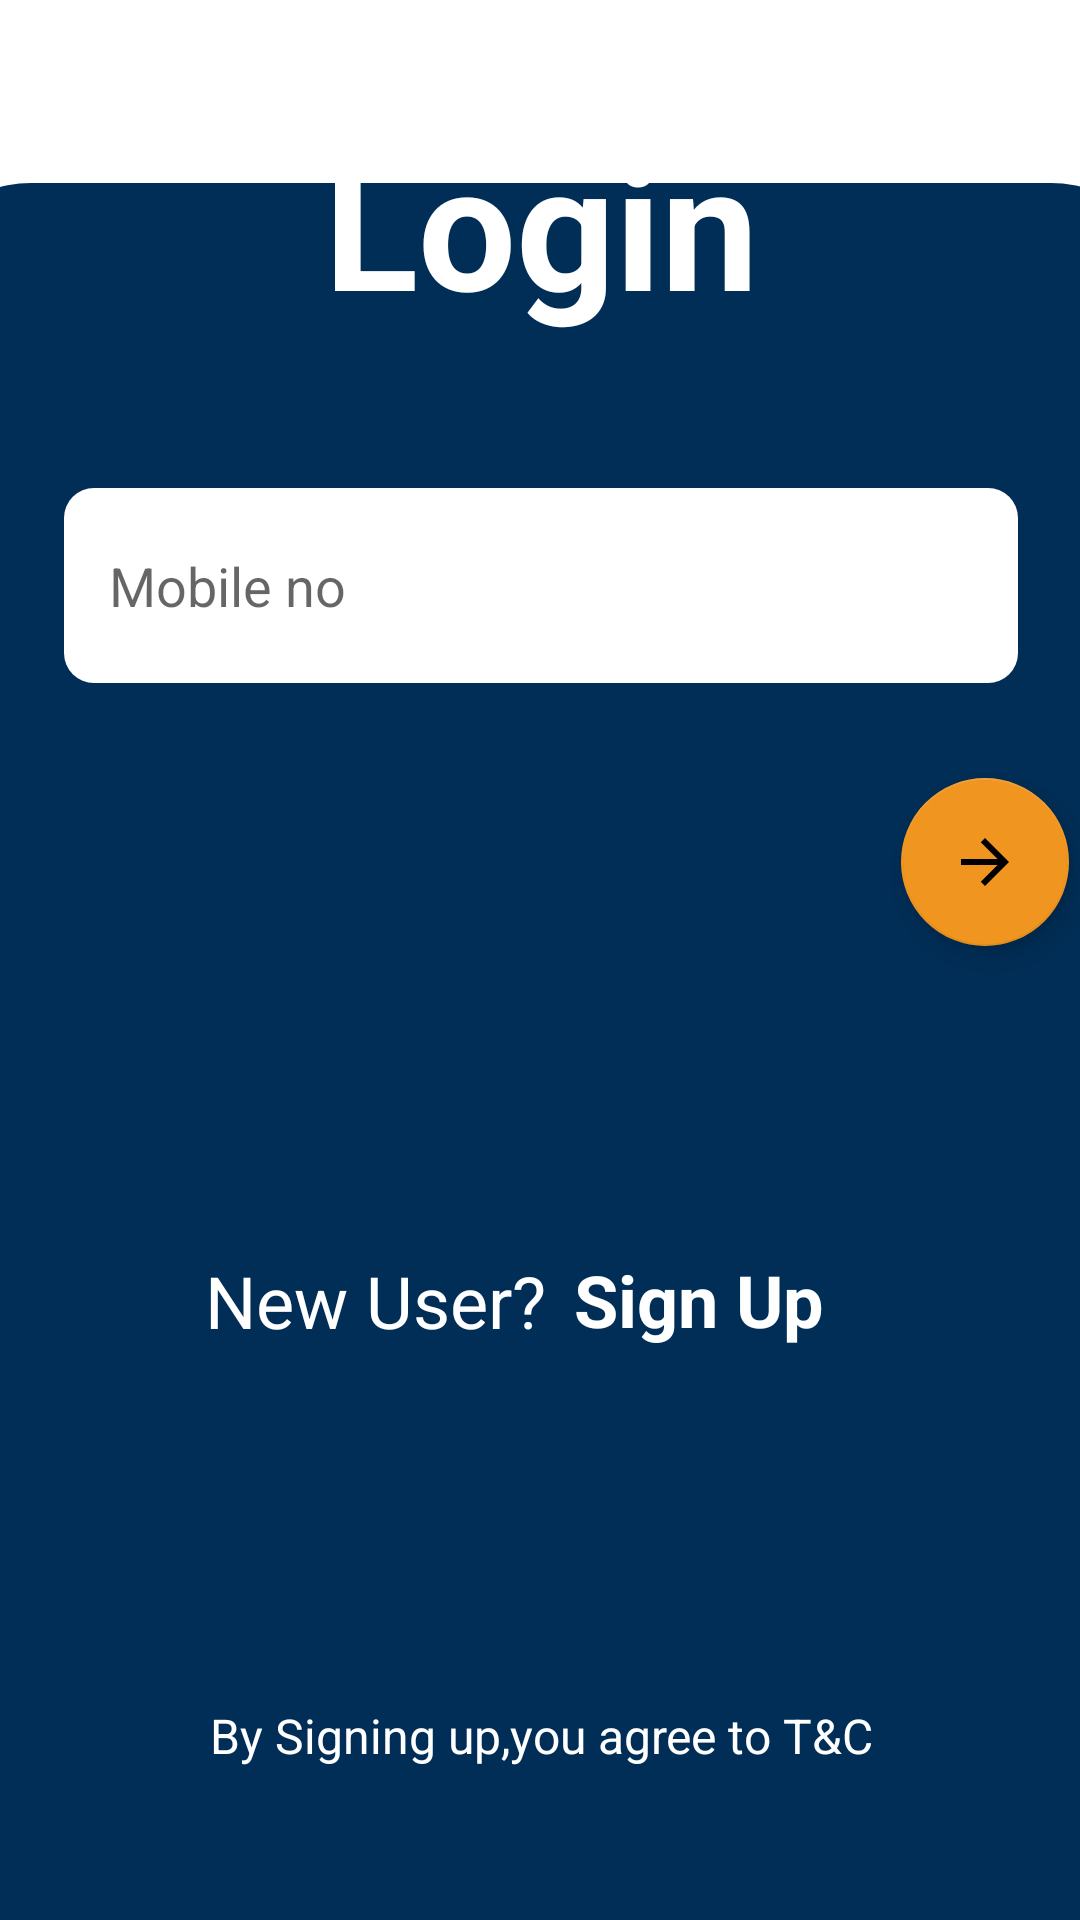

Icon bounding boxes for this 1080x1920 phone screenshot, format BBox(x1, y1, x2, y2):
arrow forward: BBox(901, 778, 1069, 946)
